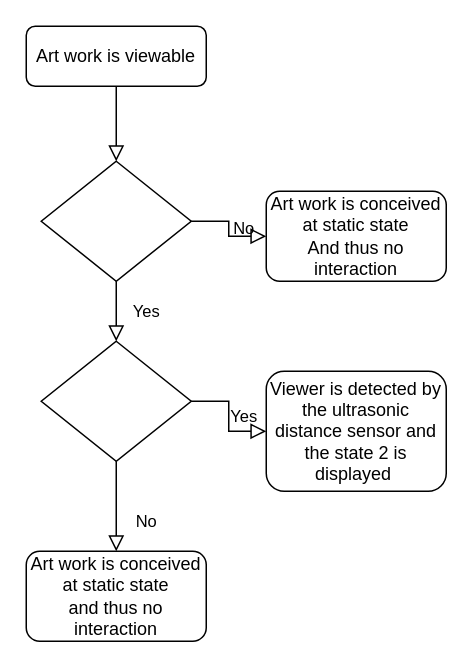
Some shapes in this 473 by 668 pixel diagram are drawn without their labels. Here are the shapes that lost their labels. From the top down, the box of each, then its label:
(40, 160, 191, 281): Viewer approaches piece for closer look
(40, 340, 191, 461): With in 1 m
